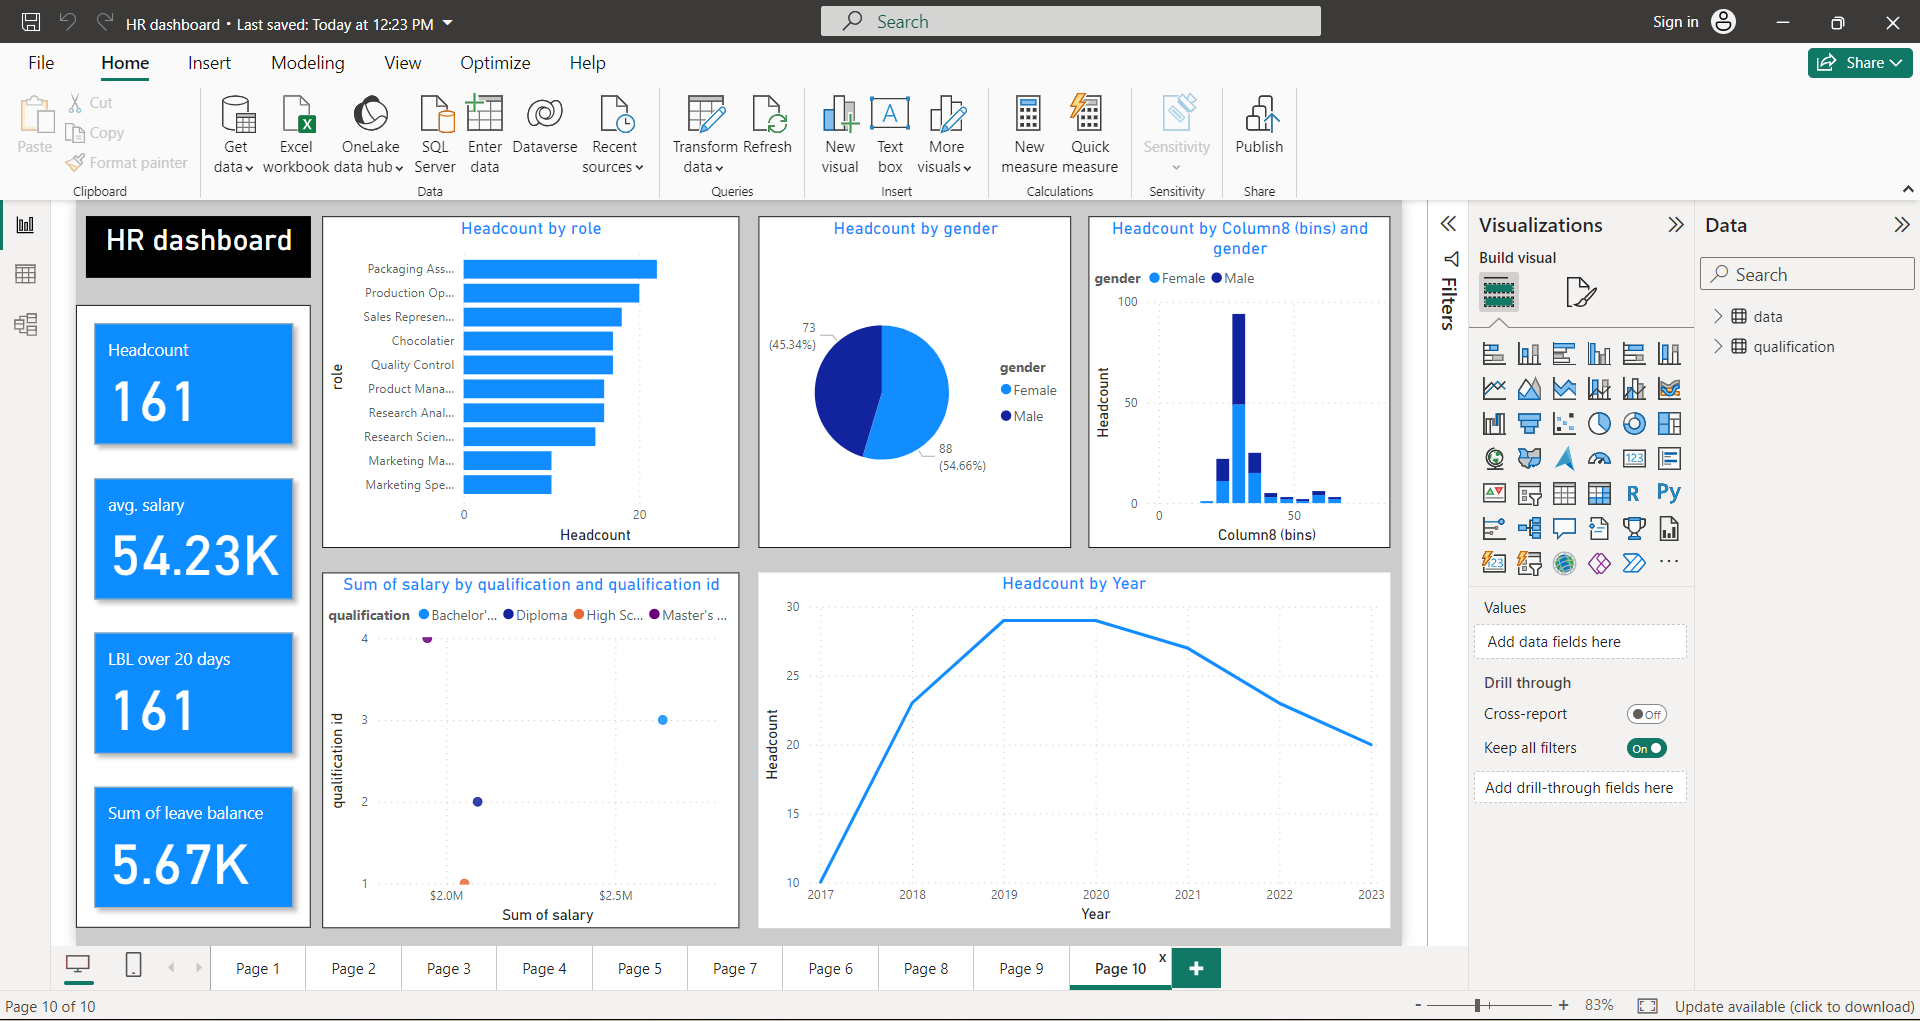

The page's visual inventory and layout, read from the dashboard file:
{"tool":"powerbi","page":{"name":"Page 10","canvas":[1280,720],"ordinal":9},"visuals":[{"type":"cardVisual","fields":{"Data":["data.Headcount","data.avg. salary","data.LBL over 20 days","Sum(data.leave balance)"]},"box":[0,101.5,226.4,601],"z":0},{"type":"barChart","fields":{"Y":["data.Headcount"],"Category":["data.role"]},"box":[237.4,15.1,402.1,319.7],"z":1000},{"type":"pieChart","fields":{"Category":["data.gender"],"Y":["data.Headcount"]},"box":[658.7,15.1,301.9,319.7],"z":2000},{"type":"columnChart","fields":{"Y":["data.Headcount"],"Category":["data.Column8 (bins)"],"Series":["data.gender"]},"box":[977,15.1,290.9,319.7],"z":3000},{"type":"scatterChart","fields":{"X":["Sum(data.salary)"],"Y":["qualification.qualification id"],"Series":["qualification.qualification"]},"box":[237.4,359.5,402.1,343.1],"z":4000},{"type":"lineChart","fields":{"Y":["data.Headcount"],"Category":["data.date of birth.Variation.Date Hierarchy.Year"]},"box":[658.7,359.5,609.3,343.1],"z":5000},{"type":"textbox","box":[9.6,15.1,216.8,59],"z":6000}]}

Visuals, with their boxes on the page's 1280x720 design canvas (x1, y1, x2, y2). These are canvas units, not pixel positions in the 1920x1021 screenshot, which may show the page scaled, cropped or inside an application window:
cardVisual - data.Headcount x data.avg. salary: {"x1": 0, "y1": 102, "x2": 226, "y2": 702}
barChart - data.Headcount x data.role: {"x1": 237, "y1": 15, "x2": 640, "y2": 335}
pieChart - data.gender x data.Headcount: {"x1": 659, "y1": 15, "x2": 961, "y2": 335}
columnChart - data.Headcount x data.Column8 (bins): {"x1": 977, "y1": 15, "x2": 1268, "y2": 335}
scatterChart - Sum(data.salary) x qualification.qualification id: {"x1": 237, "y1": 360, "x2": 640, "y2": 703}
lineChart - data.Headcount x data.date of birth.Variation.Date Hierarchy.Year: {"x1": 659, "y1": 360, "x2": 1268, "y2": 703}
textbox: {"x1": 10, "y1": 15, "x2": 226, "y2": 74}
